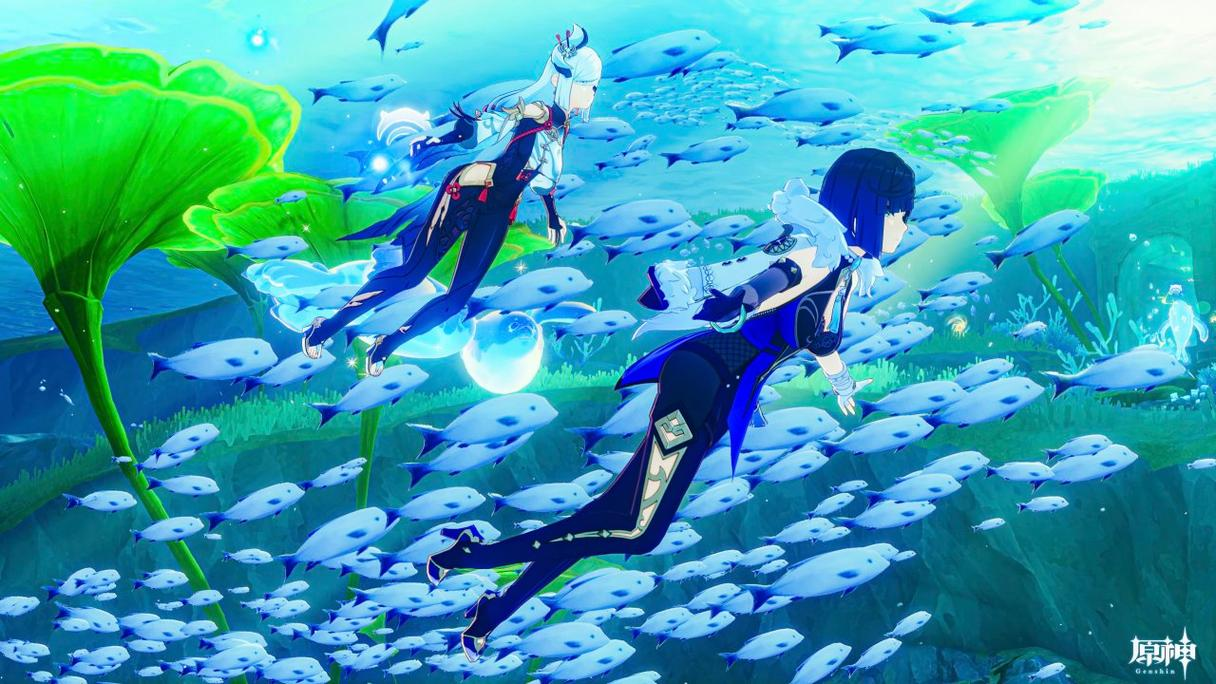夜兰: (417, 148, 928, 655)
